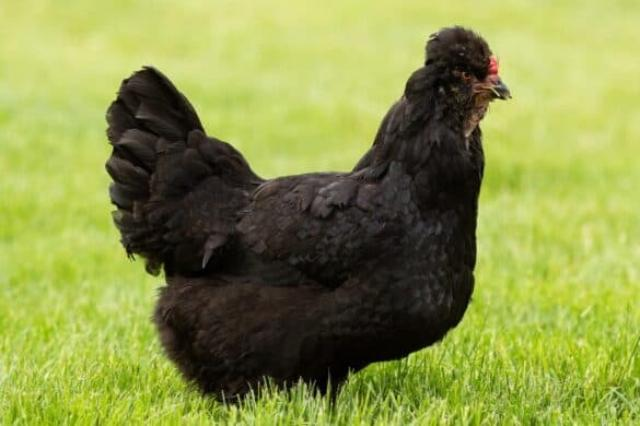Chicken: (104, 26, 512, 402)
